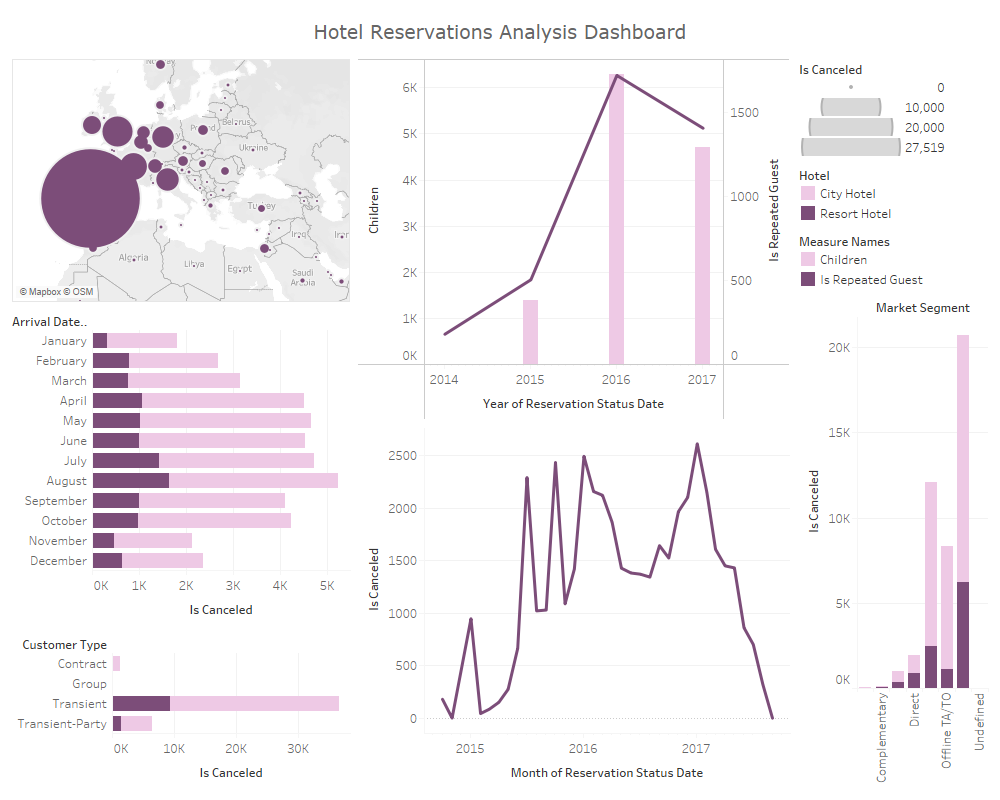

This screenshot's page, from the dashboard's own definition file:
{"tool":"tableau","page":{"name":"Dashboard 1","canvas":[1000,800],"ordinal":0},"visuals":[{"type":"text","box":[8,8,984,47]},{"type":"worksheet","title":"Sheet 12","mark":"Automatic","box":[8,55,346,251]},{"type":"worksheet","title":"Sheet 10","mark":"Automatic","rows":["children","is_repeated_guest"],"cols":["reservation_status_date"],"box":[354,55,440,369]},{"type":"legend","title":"Sheet 12","param":"[federated.1q0wmms0xp4s5w13999ip1v3yp6d].[sum:is_canceled:qk]","box":[794,55,198,106]},{"type":"legend","title":"Sheet 7","param":"[federated.1q0wmms0xp4s5w13999ip1v3yp6d].[none:hotel:nk]","box":[794,161,198,66]},{"type":"legend","title":"Sheet 10","param":"[federated.1q0wmms0xp4s5w13999ip1v3yp6d].[:Measure Names]","box":[794,227,198,66]},{"type":"worksheet","title":"Sheet 9","mark":"Automatic","rows":["is_canceled"],"cols":["market_segment"],"box":[794,293,198,499]},{"type":"worksheet","title":"Sheet 6","mark":"Automatic","rows":["arrival_date_month"],"cols":["is_canceled"],"box":[8,306,346,323]},{"type":"worksheet","title":"Sheet 1","mark":"Automatic","rows":["is_canceled"],"cols":["reservation_status_date"],"box":[354,424,440,368]},{"type":"worksheet","title":"Sheet 7","mark":"Automatic","rows":["customer_type"],"cols":["is_canceled"],"box":[8,629,346,163]}]}

Visuals, with their boxes in screenshot pixels (x1, y1, x2, y2), scaled from the page's 1000x800 canvas onto the 1000x800 screenshot:
text: box=[8, 8, 992, 55]
"Sheet 12" worksheet: box=[8, 55, 354, 306]
"Sheet 10" worksheet: box=[354, 55, 794, 424]
"Sheet 12" legend: box=[794, 55, 992, 161]
"Sheet 7" legend: box=[794, 161, 992, 227]
"Sheet 10" legend: box=[794, 227, 992, 293]
"Sheet 9" worksheet: box=[794, 293, 992, 792]
"Sheet 6" worksheet: box=[8, 306, 354, 629]
"Sheet 1" worksheet: box=[354, 424, 794, 792]
"Sheet 7" worksheet: box=[8, 629, 354, 792]
